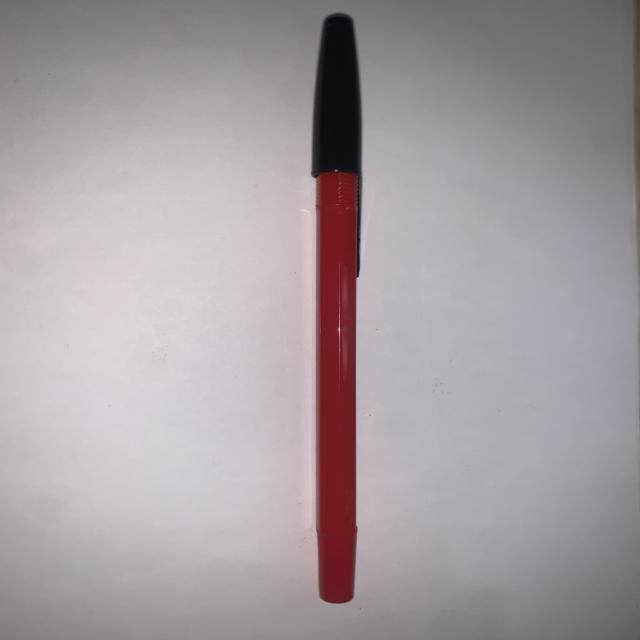Pulpen: (303, 7, 386, 615)
